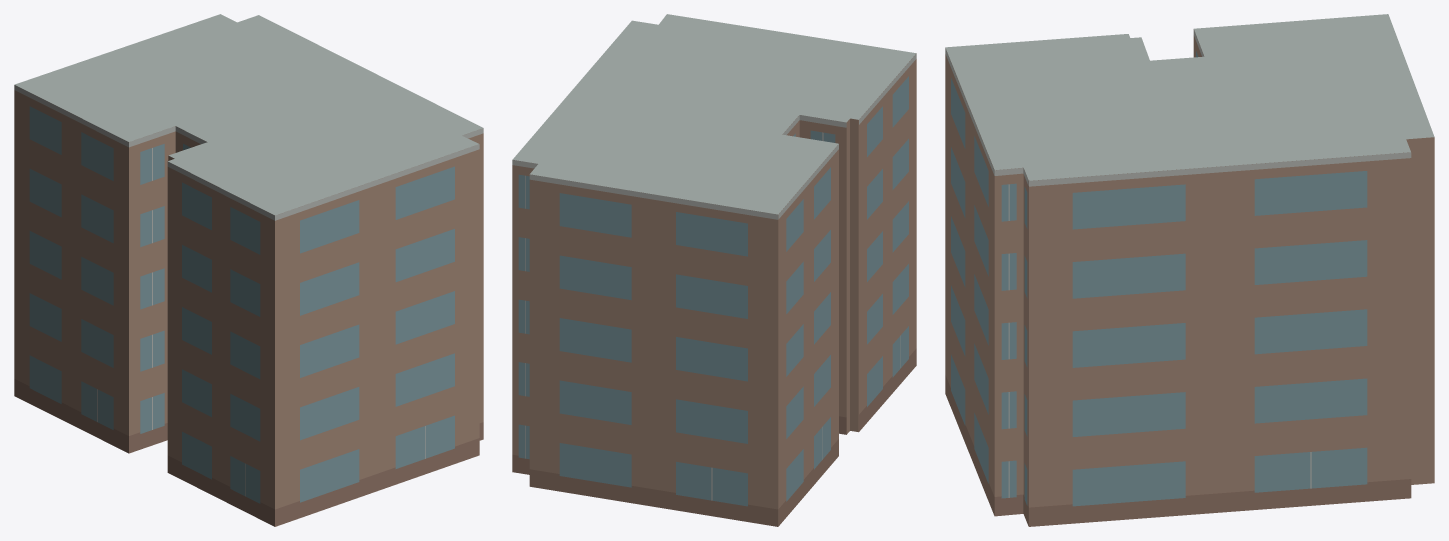
File: survey-upis-32738784.glb
The picture shows the model from 3 angles, left to right: view 1: azimuth 30°, elevation 25°; view 2: azimuth 150°, elevation 25°; view 3: azimuth 270°, elevation 25°; orthographic projection. The views are drawn at different scales.
Parts seen in each view (by area): view 1: survey-upis-32738784.tmp; view 2: survey-upis-32738784.tmp; view 3: survey-upis-32738784.tmp.
Boxes of the visible parts, x1,y1,x2,y2 form: survey-upis-32738784.tmp: (14, 14, 483, 526); survey-upis-32738784.tmp: (512, 14, 916, 526); survey-upis-32738784.tmp: (945, 14, 1434, 526).
Bounding box in the file's own units: 14.82 × 14.33 × 18.37.
